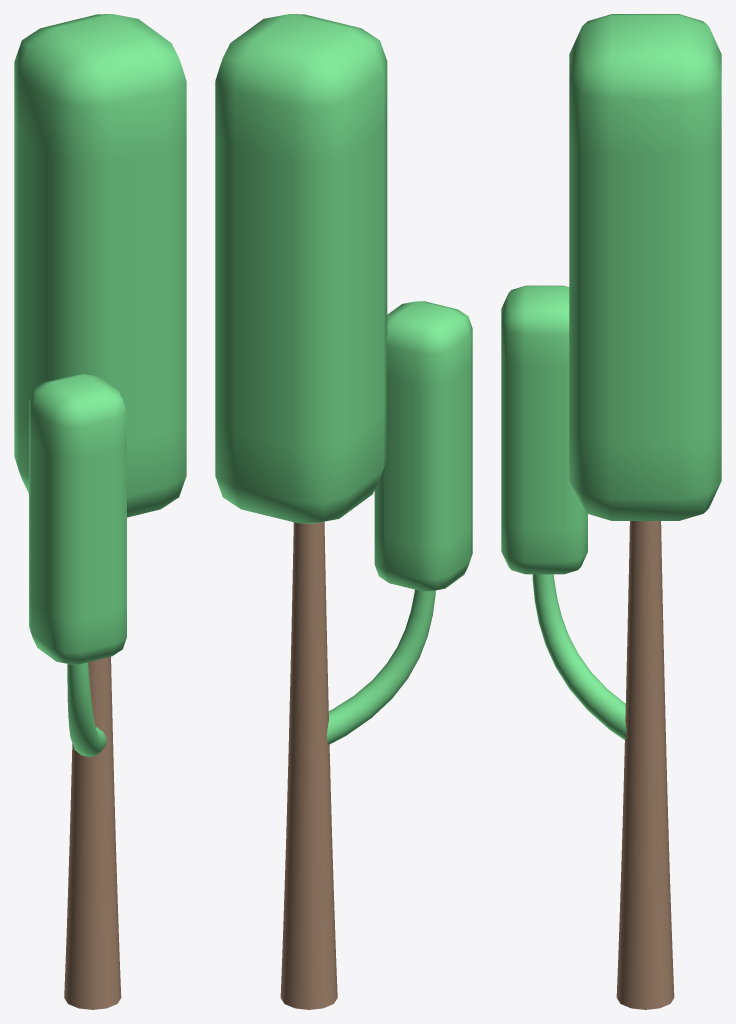
File: LowPoly-Tree-02_Tree_4_instanced.glb
3 views of the same model, side by side, from view 1: azimuth 30°, elevation 25°; view 2: azimuth 150°, elevation 25°; view 3: azimuth 270°, elevation 25° (orthographic).
Visible parts, largest first — view 1: Canopy, Trunk; view 2: Canopy, Trunk; view 3: Canopy, Trunk.
Part boxes in pixels (x1,y1,x2,y2): Canopy: (14,14,186,757); Trunk: (64,656,121,1009); Canopy: (215,14,472,744); Trunk: (280,521,337,1009); Canopy: (501,14,721,739); Trunk: (616,521,674,1009).
Bounding box in the file's own units: 0.2827 × 1.49 × 0.3054.
